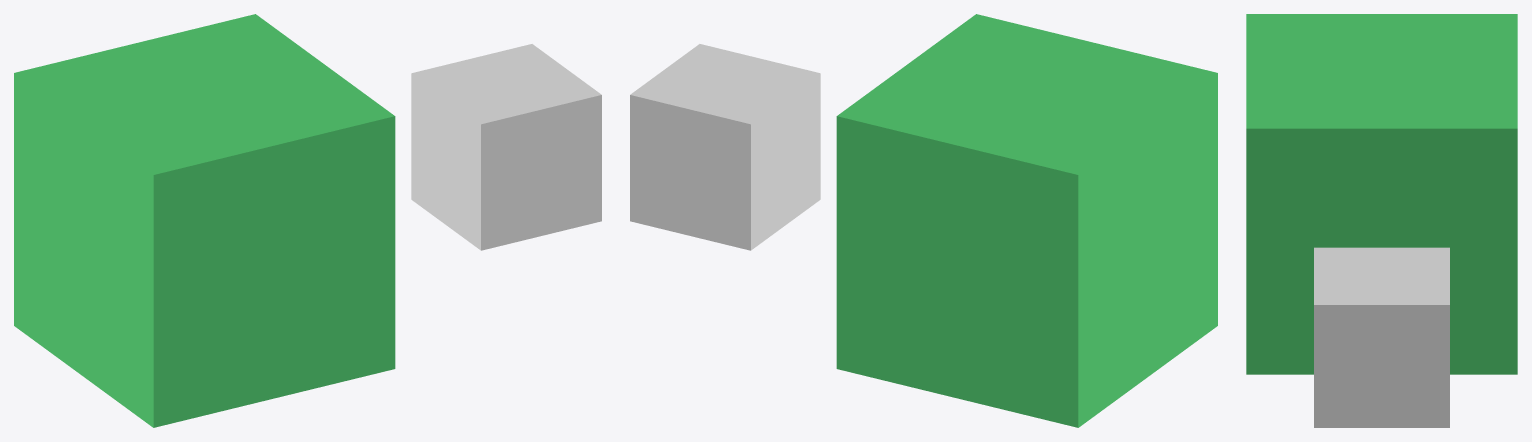
Rendered from specifiers_over_base.glb.
The picture shows the model from 3 angles, left to right: view 1: azimuth 30°, elevation 25°; view 2: azimuth 150°, elevation 25°; view 3: azimuth 270°, elevation 25°; orthographic projection. The views are drawn at different scales.
Parts seen in each view (by area): view 1: Box, Box_2; view 2: Box, Box_2; view 3: Box, Box_2.
Boxes of the visible parts, x1,y1,x2,y2 form: Box: [14, 14, 395, 427]; Box_2: [411, 44, 601, 250]; Box: [836, 14, 1217, 427]; Box_2: [630, 44, 820, 250]; Box: [1246, 14, 1517, 374]; Box_2: [1314, 247, 1449, 427].
Size of the model in its own units: 8 by 4 by 4.
